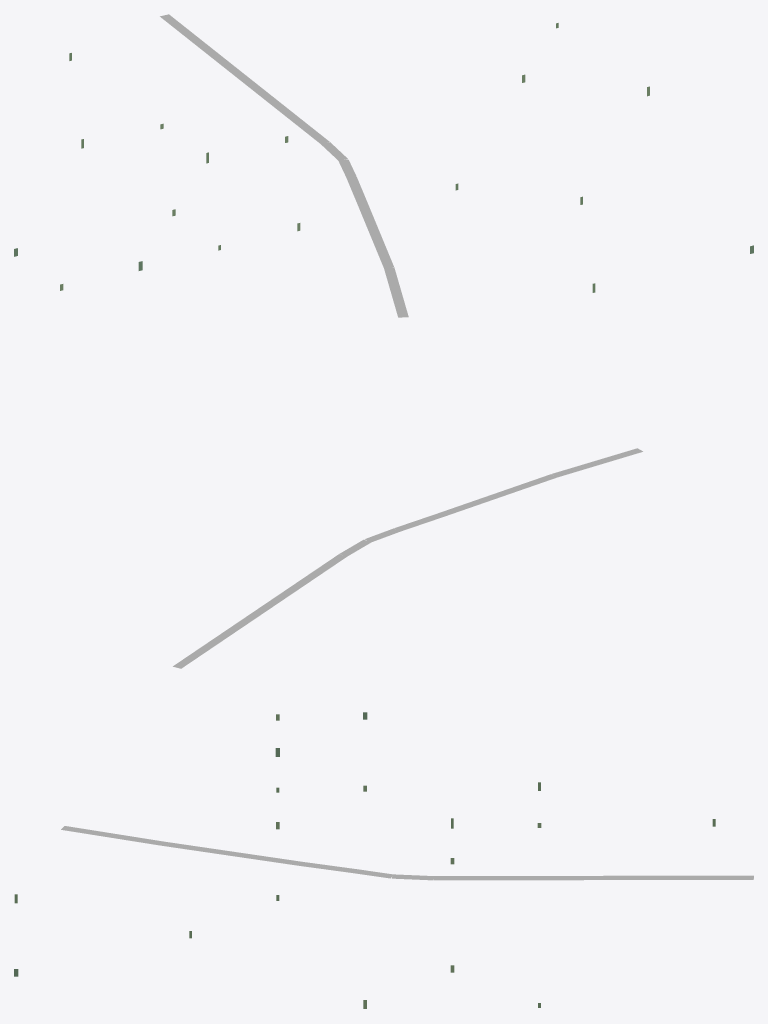
3 views of the same model, one above another, from view 1: azimuth 30°, elevation 25°; view 2: azimuth 150°, elevation 25°; view 3: azimuth 270°, elevation 25° (orthographic). The views are drawn at different scales.
Bounding box in the file's own units: 483 × 11.94 × 509.
